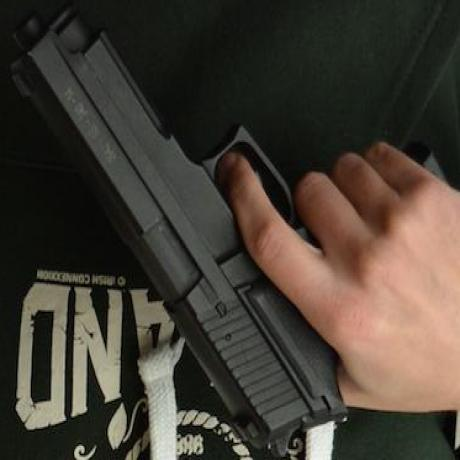1: (227, 147, 460, 421)
weapon: (10, 9, 342, 435)
